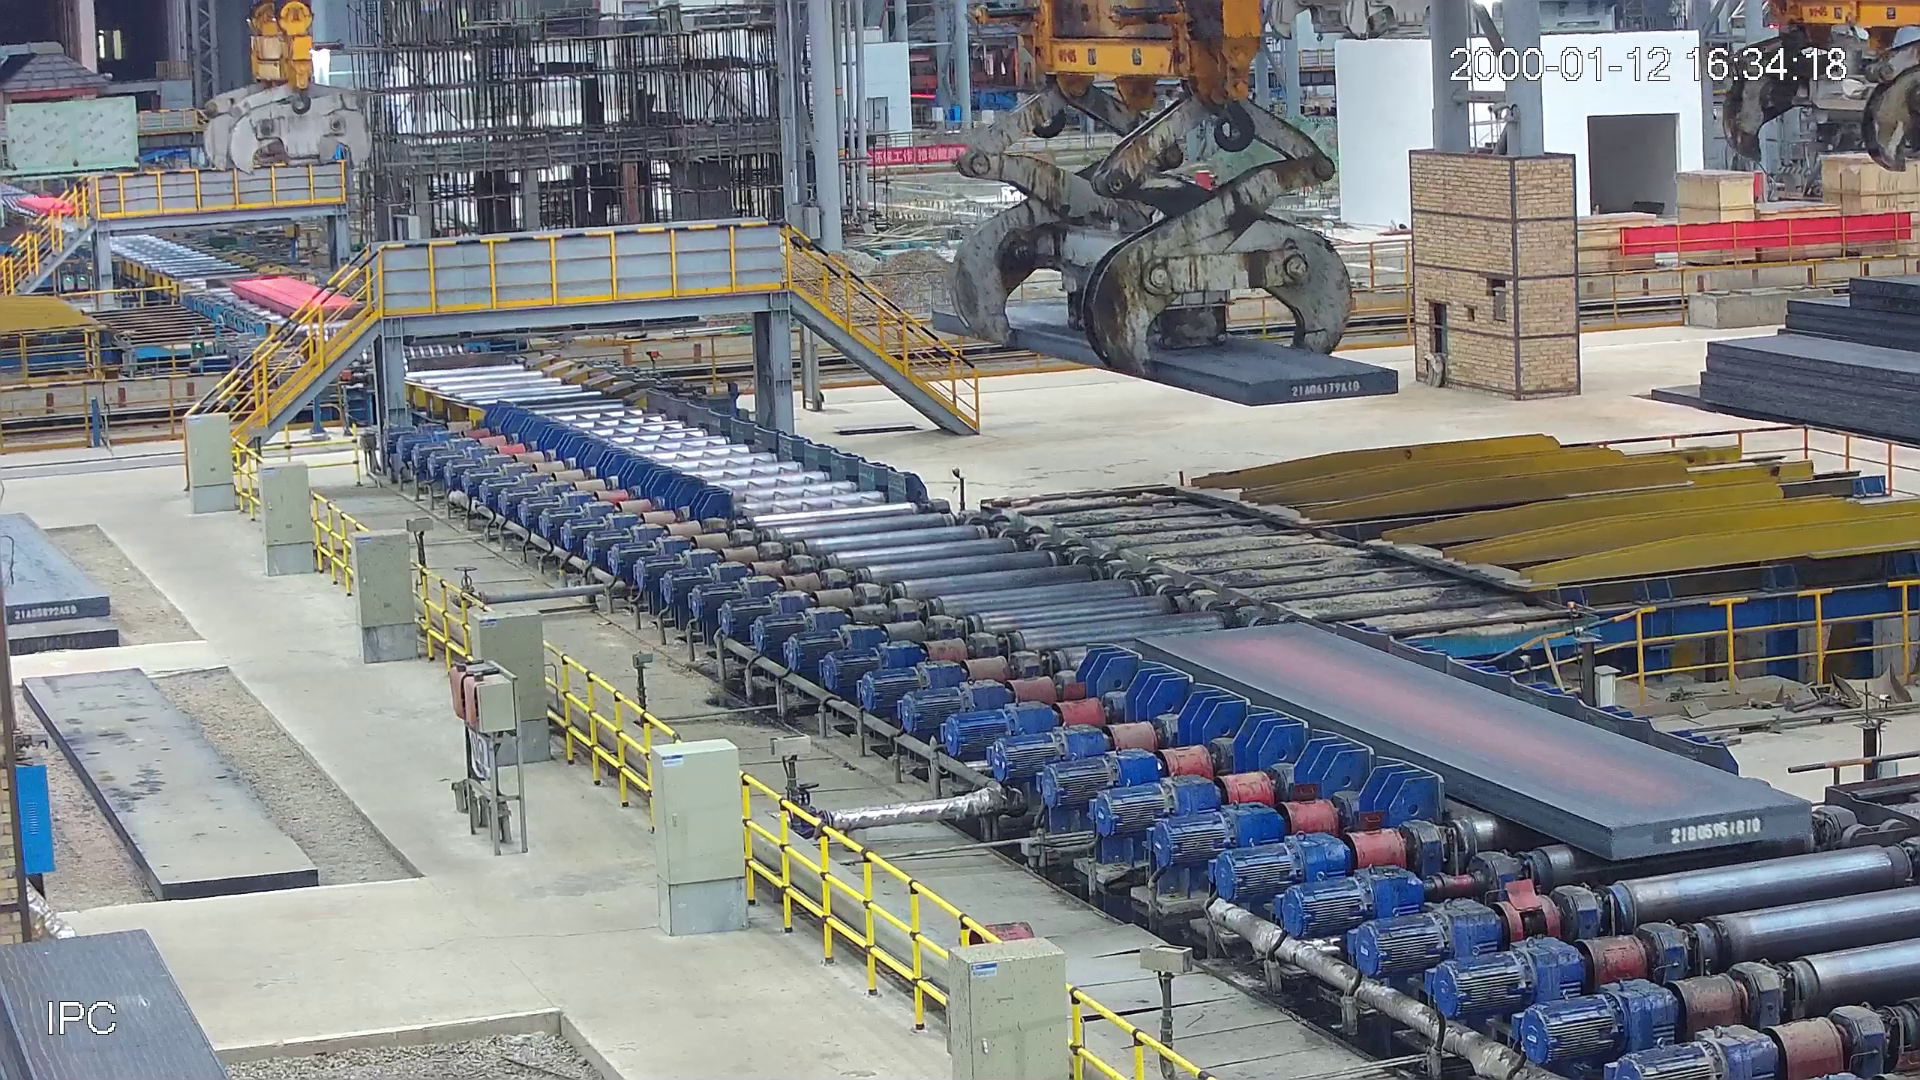crane: (200, 1, 377, 178)
craneandslab: (920, 1, 1400, 405)
slab: (1129, 622, 1809, 861), (233, 278, 371, 320)
